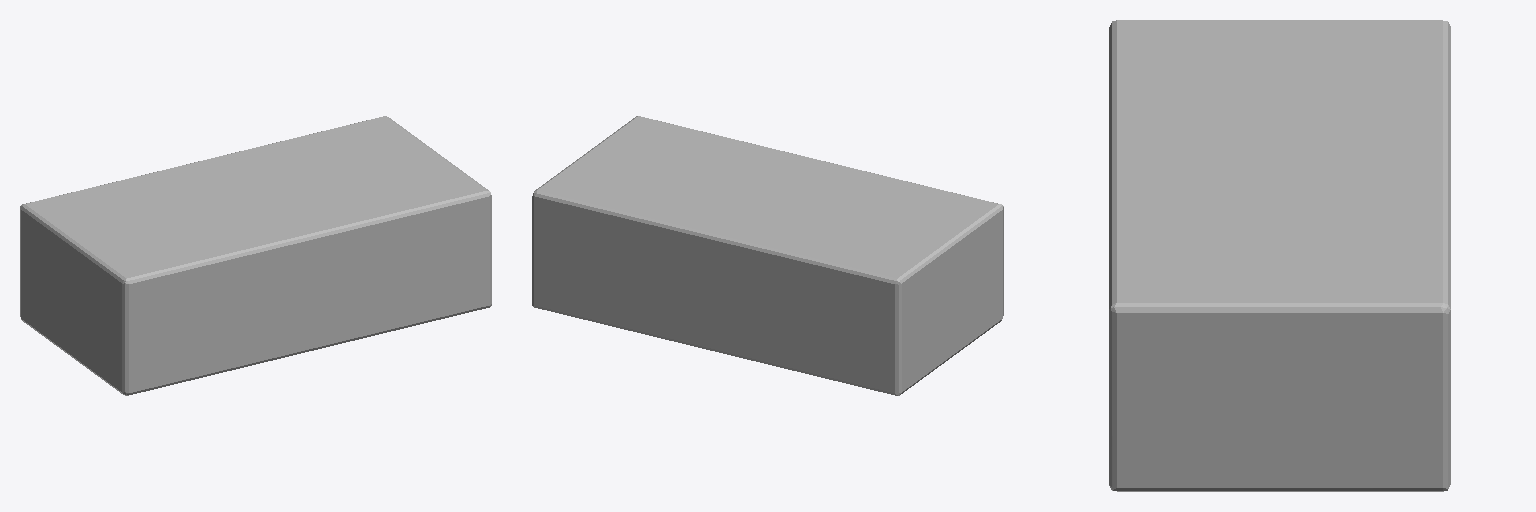
The robot description file, URDF, robot "root":
<?xml version="1.0"?>
<robot name="root">
  <link name="base_link">
    <visual>
      <origin xyz="0 0 0" rpy="0 0 0" />
      <geometry>
        <mesh filename="../meshes/unidex_sem_TissueBox-266911058f9345d8c6e01b363ae6db1b_006.obj" scale="1.0000E+00 1.0000E+00 1.0000E+00" />
      </geometry>
      <material name="">
        <color rgba="7.50E-01 7.50E-01 7.50E-01 1" />
      </material>
    </visual>
    <collision>
      <origin xyz="0 0 0" rpy="0 0 0" />
      <geometry>
        <mesh filename="../meshes/unidex_sem_TissueBox-266911058f9345d8c6e01b363ae6db1b_006.obj" scale="1.0000E+00 1.0000E+00 1.0000E+00" />
      </geometry>
    </collision>
  </link>
</robot>

--- Facts derived from the render (not from the file) ---
Views: 3 orthographic renders of the robot side by side, from view 1: azimuth 30°, elevation 25°; view 2: azimuth 150°, elevation 25°; view 3: azimuth 270°, elevation 25°.
Robot: root — 1 links, 0 joints (none); root link base_link; default pose: every joint at zero.
Visible links, largest first — view 1: base_link; view 2: base_link; view 3: base_link.
Link boxes in pixels (bbox=[...]): base_link: bbox=[20, 116, 491, 395]; base_link: bbox=[532, 116, 1003, 395]; base_link: bbox=[1109, 20, 1450, 491].
Bounding box of the posed robot: 0.1019 × 0.0509 × 0.031 m (x, y, z).
1 mesh visuals loaded from 1 distinct referenced files (1 OBJ).
